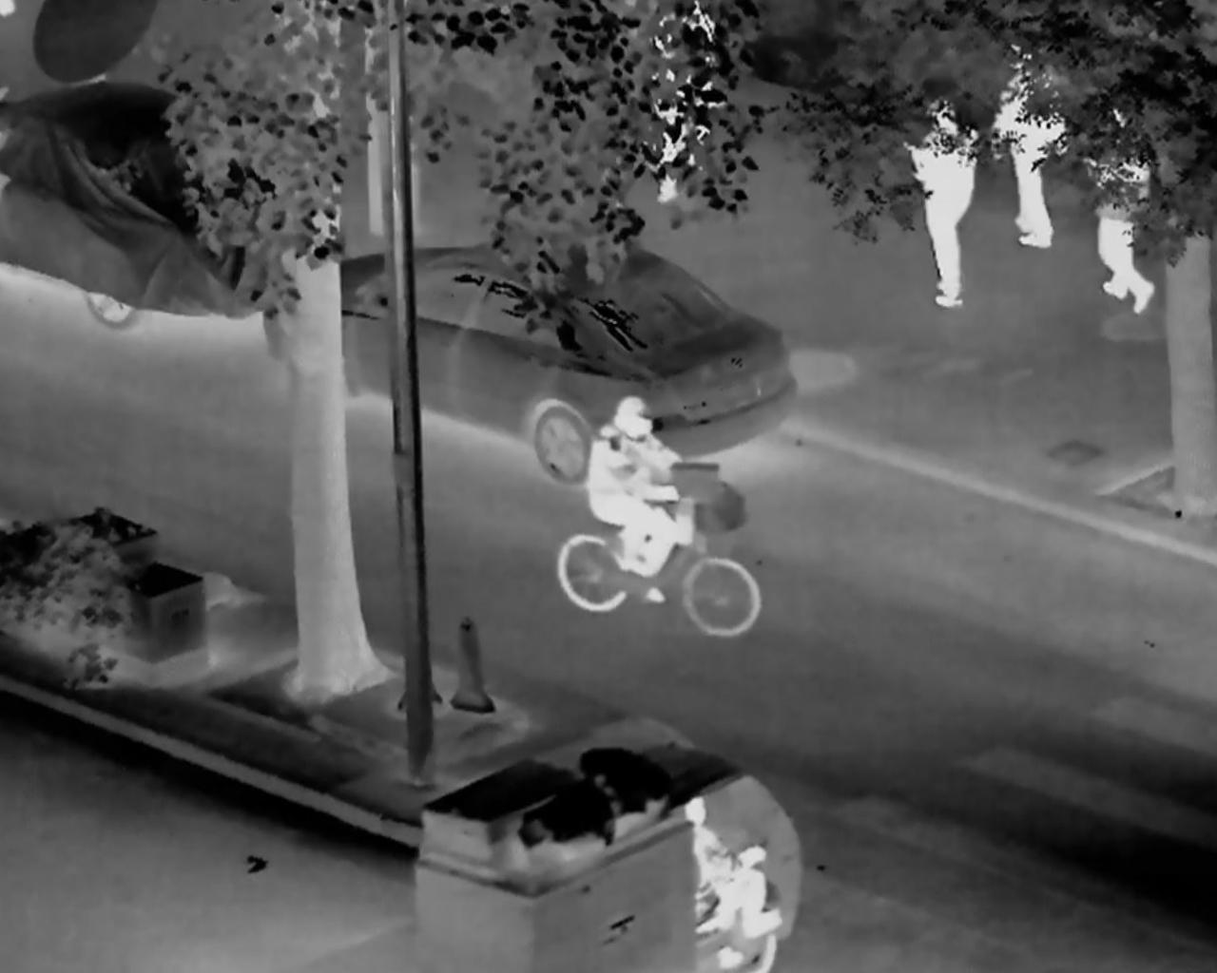person: (589, 398, 690, 600), (668, 794, 782, 939), (989, 39, 1068, 246), (900, 101, 975, 306), (1086, 105, 1156, 315)
